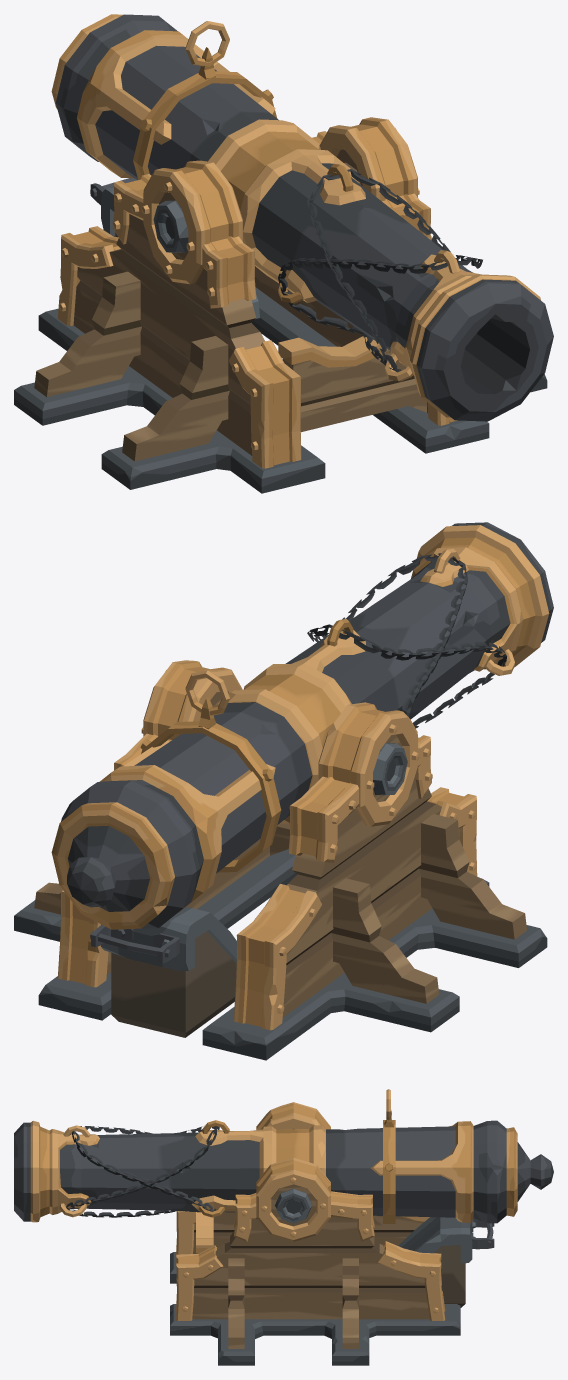
Rendered from SM_Wep_Cannon_05.fbx.
The picture shows the model from 3 angles, top to bottom: view 1: azimuth 30°, elevation 25°; view 2: azimuth 150°, elevation 25°; view 3: azimuth 270°, elevation 25°; orthographic projection. The views are drawn at different scales.
Parts seen in each view (by area): view 1: SM_Wep_Cannon_05, SM_Wep_Cannon_05_Chain_01; view 2: SM_Wep_Cannon_05, SM_Wep_Cannon_05_Chain_01; view 3: SM_Wep_Cannon_05, SM_Wep_Cannon_05_Chain_01.
Boxes of the visible parts, left/top/right/bottom form: SM_Wep_Cannon_05: left=14, top=14, right=553, bottom=493; SM_Wep_Cannon_05_Chain_01: left=278, top=169, right=482, bottom=372; SM_Wep_Cannon_05: left=14, top=522, right=553, bottom=1060; SM_Wep_Cannon_05_Chain_01: left=307, top=553, right=506, bottom=728; SM_Wep_Cannon_05: left=14, top=1089, right=553, bottom=1365; SM_Wep_Cannon_05_Chain_01: left=66, top=1126, right=219, bottom=1217.
Size of the model in its own units: 273 by 201 by 469.
